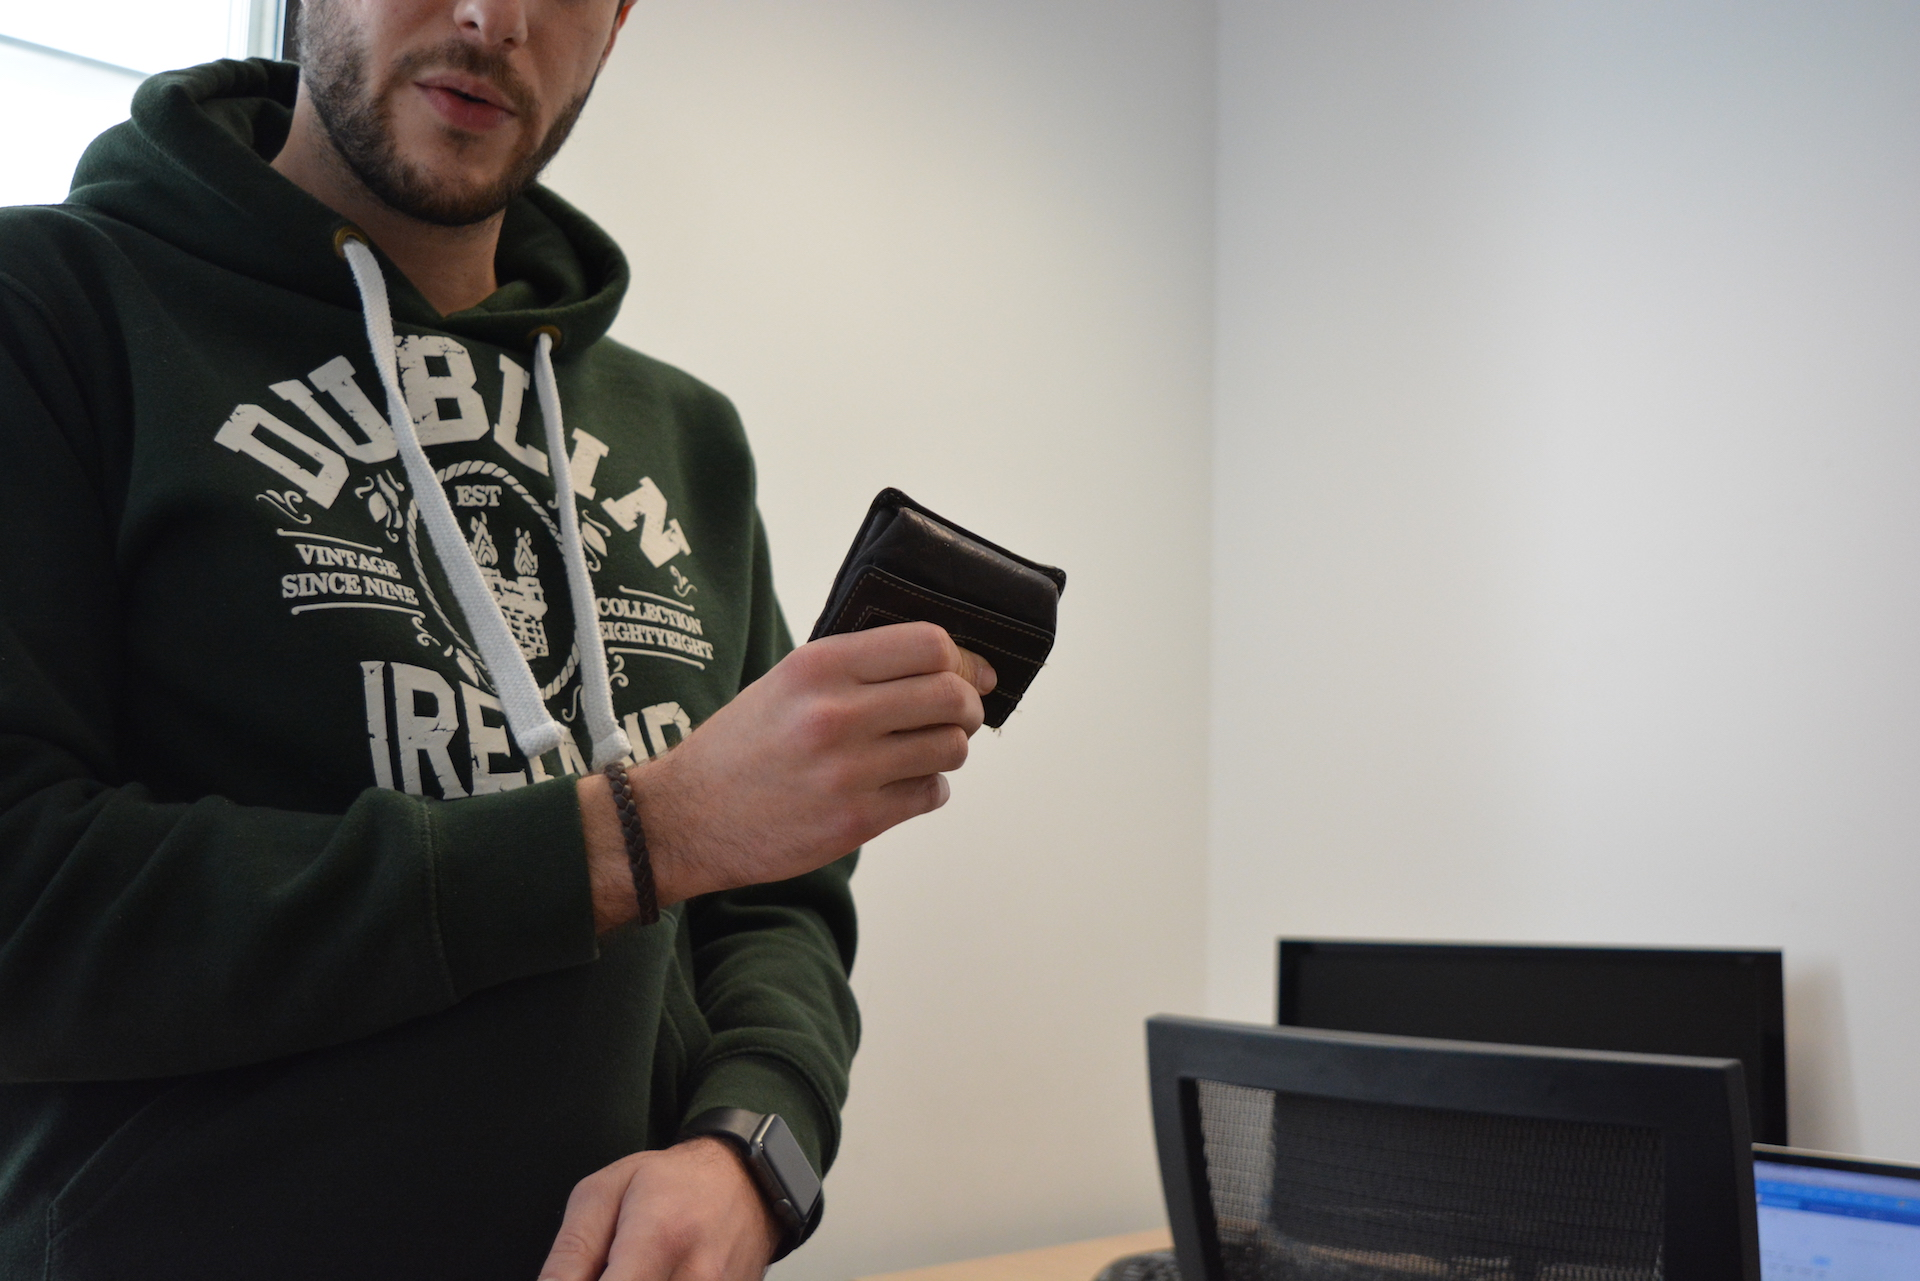monedero: (806, 485, 1069, 733)
